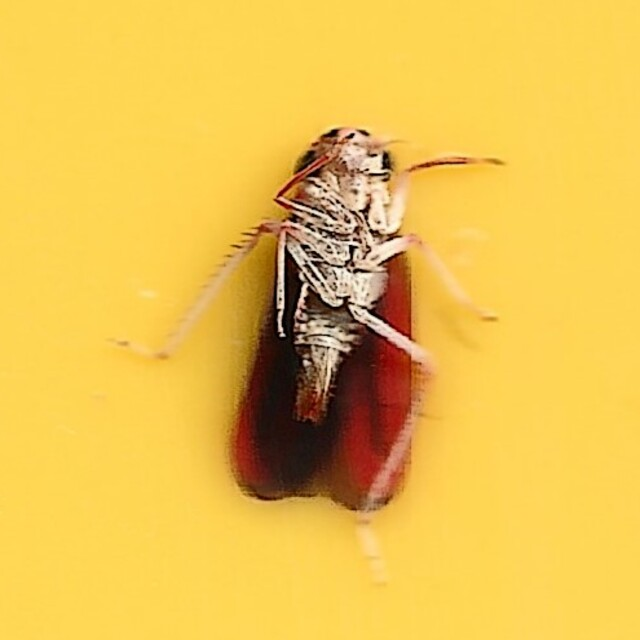Hemiptera: (129, 121, 511, 519)
